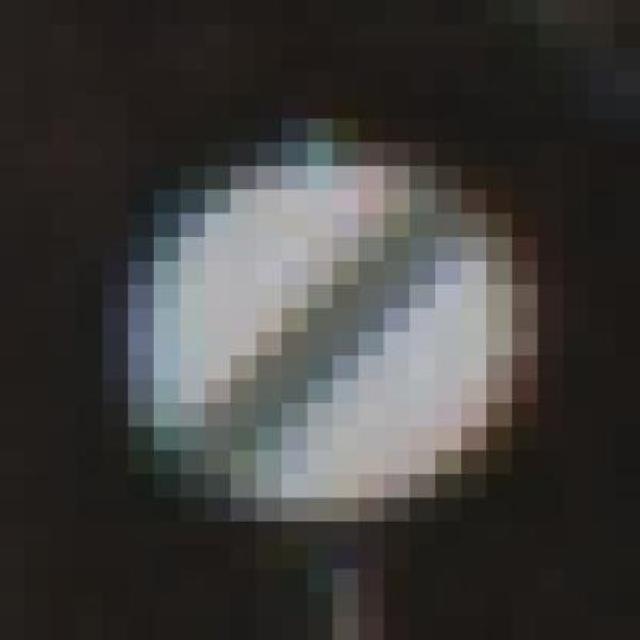End of all speed and passing limits: (128, 142, 512, 546)
